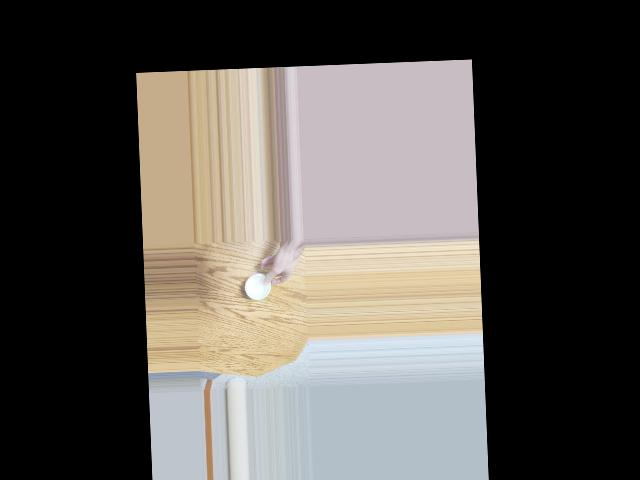cotage: (247, 272, 272, 297)
